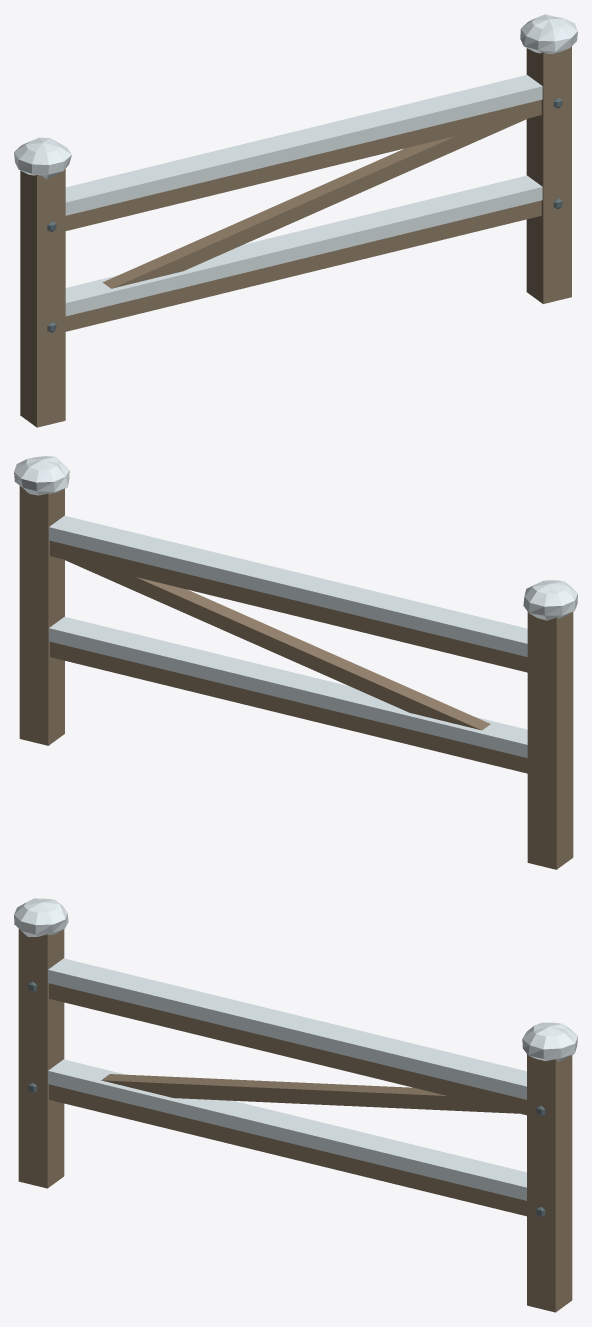
Rendered from PROP_01_FenceStraightSnowy.glb.
The picture shows the model from 3 angles, top to bottom: view 1: azimuth 30°, elevation 25°; view 2: azimuth 150°, elevation 25°; view 3: azimuth 330°, elevation 25°; orthographic projection.
Parts seen in each view (by area): view 1: PROP_01_FenceStraightSnowy; view 2: PROP_01_FenceStraightSnowy; view 3: PROP_01_FenceStraightSnowy.
Part boxes in pixels (<box>): PROP_01_FenceStraightSnowy: <box>14,14,577,427</box>; PROP_01_FenceStraightSnowy: <box>14,456,577,869</box>; PROP_01_FenceStraightSnowy: <box>14,898,577,1312</box>.
Size of the model in its own units: 3.3 by 1.56 by 0.286.
